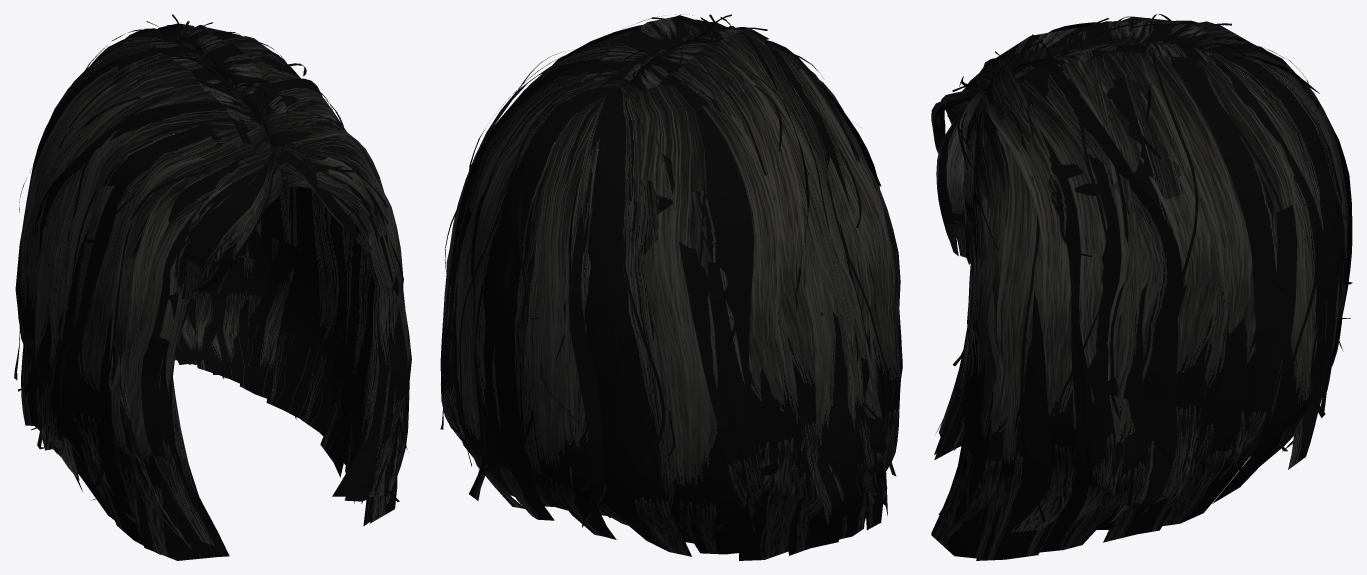
Rendered from Hair_10.fbx.
3 views of the same model, side by side, from view 1: azimuth 30°, elevation 25°; view 2: azimuth 150°, elevation 25°; view 3: azimuth 270°, elevation 25° (orthographic). The views are drawn at different scales.
Parts seen in each view (by area): view 1: avaturn_hair_1, avaturn_hair_0; view 2: avaturn_hair_1, avaturn_hair_0; view 3: avaturn_hair_1, avaturn_hair_0.
Part boxes in pixels (x1,y1,x2,y2): avaturn_hair_1: [14, 14, 411, 560]; avaturn_hair_0: [107, 36, 381, 503]; avaturn_hair_1: [440, 14, 902, 560]; avaturn_hair_0: [449, 82, 865, 543]; avaturn_hair_1: [931, 14, 1352, 560]; avaturn_hair_0: [958, 37, 1341, 529].
Bounding box in the file's own units: 21.69 × 26.32 × 21.33.
